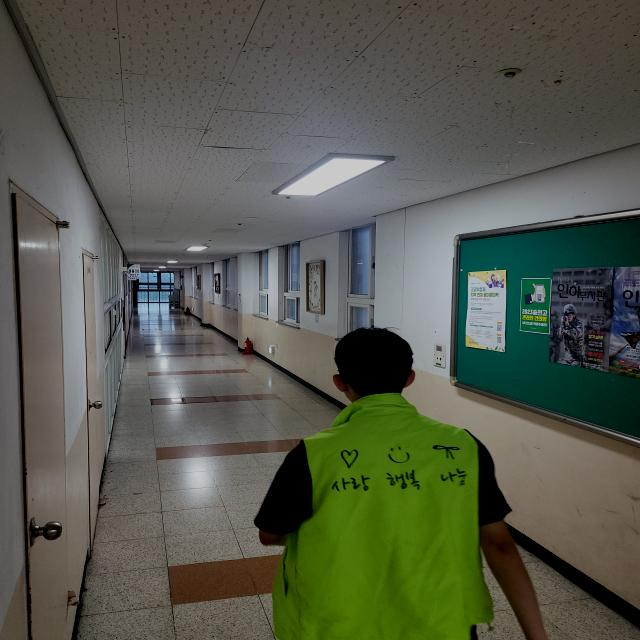weston_spy: (272, 392, 524, 640)
